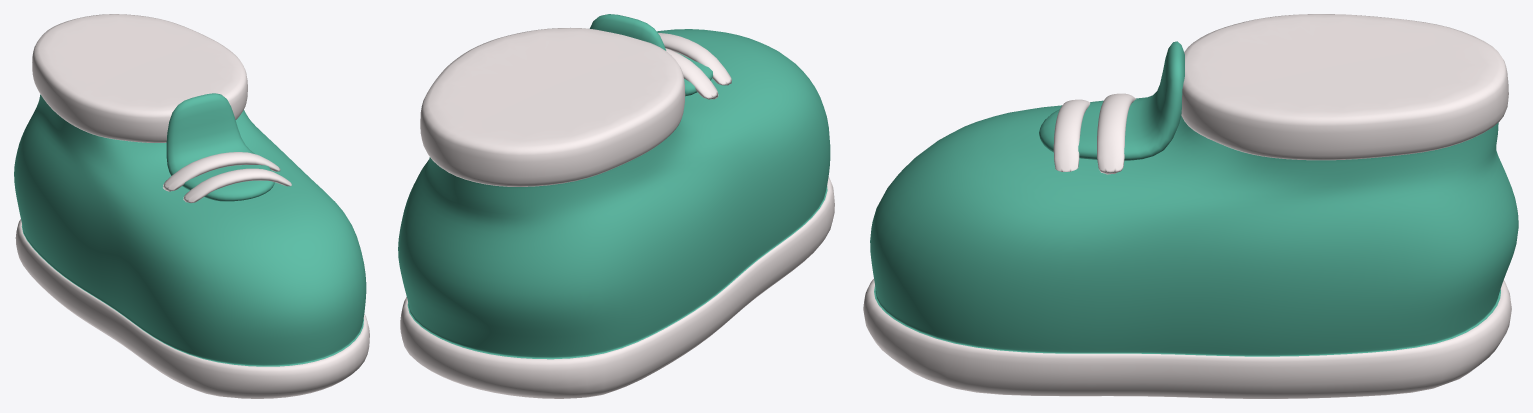
File: shoe.fbx
3 renders of one model, left to right at view 1: azimuth 30°, elevation 25°; view 2: azimuth 150°, elevation 25°; view 3: azimuth 270°, elevation 25°, orthographic. The views are drawn at different scales.
Visible parts, largest first — view 1: shoe, Plane.001, Cylinder.001, Cylinder; view 2: shoe, Plane.001, Cylinder, Cylinder.001; view 3: shoe, Plane.001, Cylinder.001, Cylinder.
Part boxes in pixels (x1,y1,x2,y2): shoe: (14,14,369,398); Plane.001: (166,93,274,201); Cylinder.001: (163,152,280,191); Cylinder: (183,168,291,202); shoe: (398,27,834,398); Plane.001: (589,14,712,96); Cylinder: (658,33,731,85); Cylinder.001: (665,48,718,99); shoe: (863,14,1518,398); Plane.001: (1039,41,1184,160); Cylinder.001: (1097,93,1136,174); Cylinder: (1053,99,1090,171).
Size of the model in its own units: 202 by 207 by 416.
